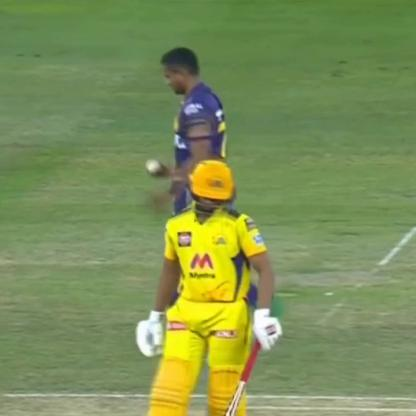ball: (142, 151, 165, 173)
